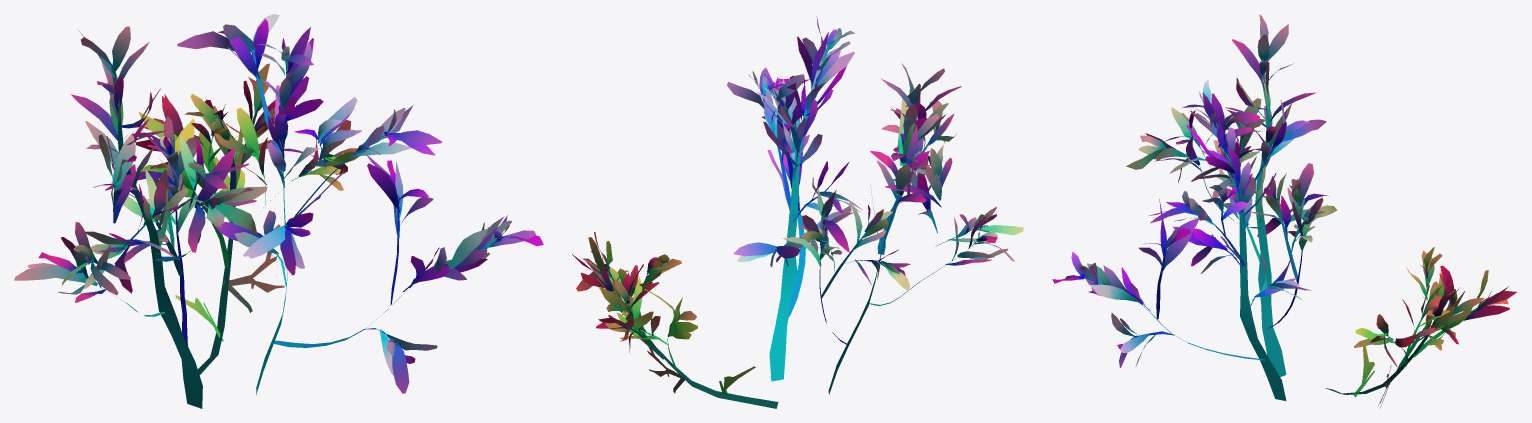
Rendered from Downy_Willow_wknlfiuqx_Mid_wknlfiuqx_VarC_LOD1.fbx.
The picture shows the model from 3 angles, left to right: view 1: azimuth 30°, elevation 25°; view 2: azimuth 150°, elevation 25°; view 3: azimuth 270°, elevation 25°; orthographic projection. The views are drawn at different scales.
Visible parts, largest first — view 1: _kosq_VarC_LOD2; view 2: _kosq_VarC_LOD2; view 3: _kosq_VarC_LOD2.
Part boxes in pixels (x1,y1,x2,y2): _kosq_VarC_LOD2: (14,14,543,408); _kosq_VarC_LOD2: (572,16,1023,408); _kosq_VarC_LOD2: (1052,14,1517,408).
Size of the model in its own units: 76.42 by 69.85 by 92.83.
